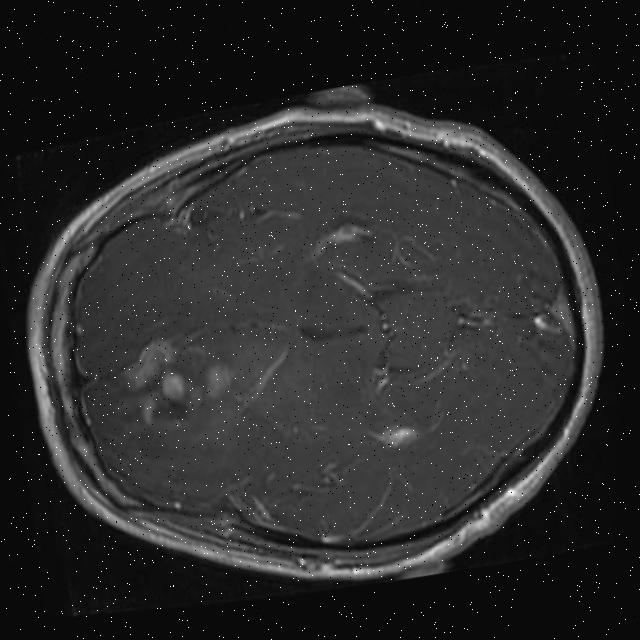Glioma: (110, 324, 243, 431)
